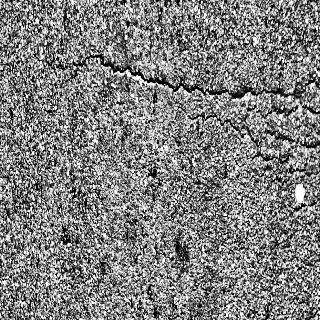alligator-crack: (239, 79, 320, 203)
crack: (46, 44, 235, 126)
